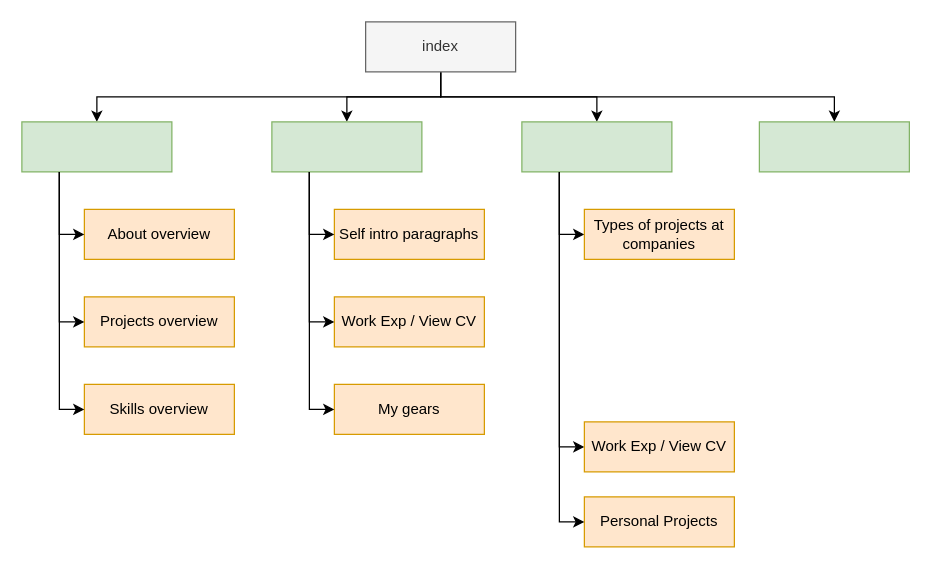
Image size: 931x569. Some labels were removed from this diagram. The shapes that lost their labels are listed below. From the top down, each one's centre as x and y in pixels, then its label:
(96,146): Home
(346,146): About
(596,146): Projects
(833,146): Contact
